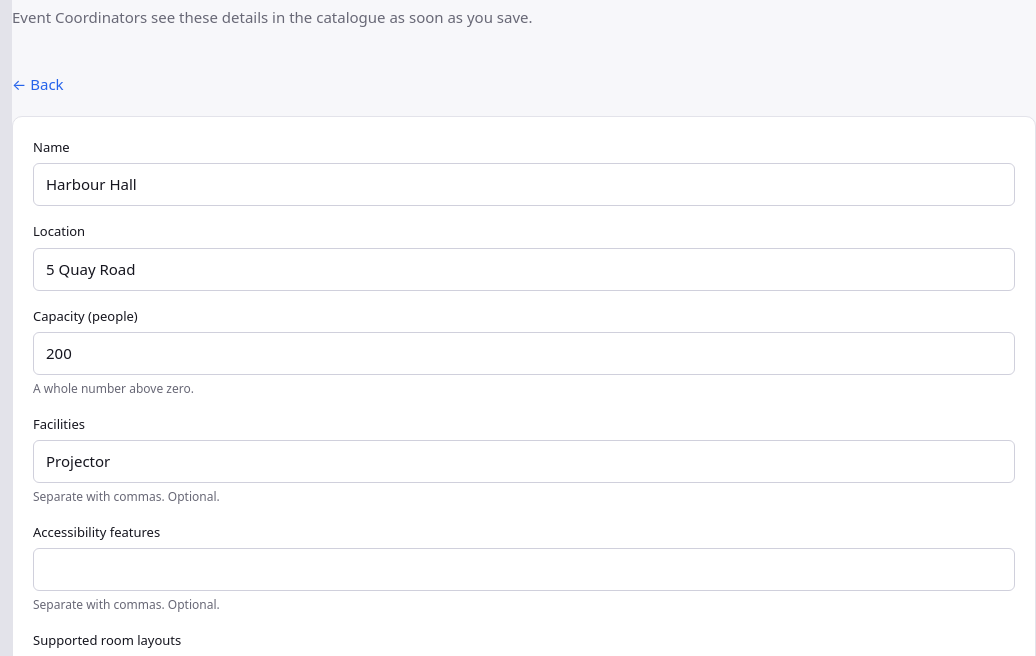
Edit a venue › ac2 loads the details and saves the change
This screenshot has width=1036, height=656.
Replace the text in the field labelled "Capacity (people)" with "300" at [524, 354], box [33,332,1015,375]
(page scrolled)
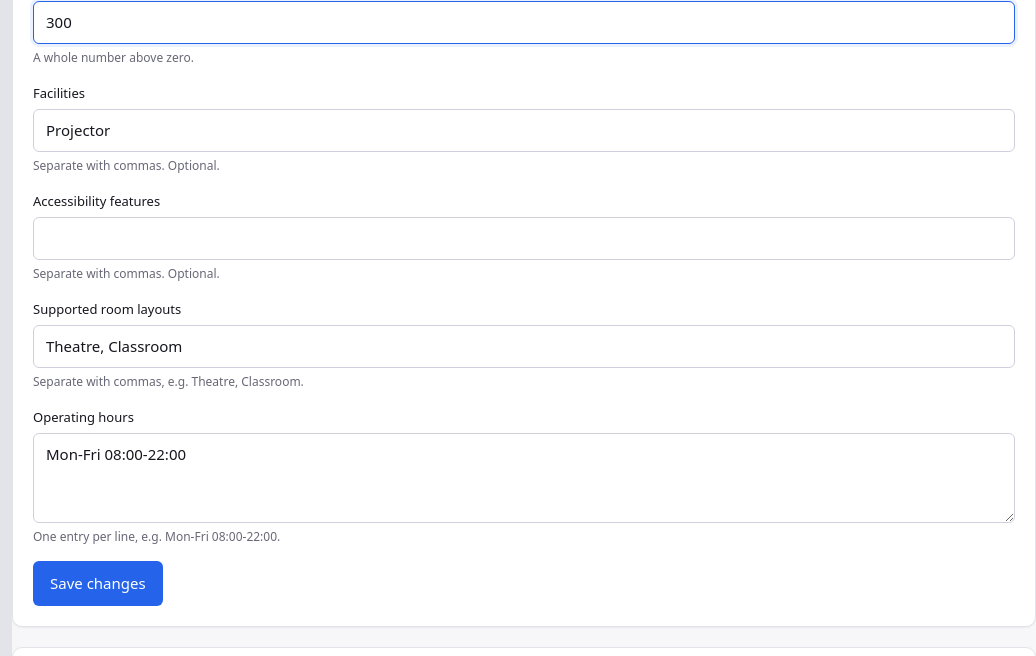
Click the button "Save changes" at [98, 584], box [33,561,163,606]
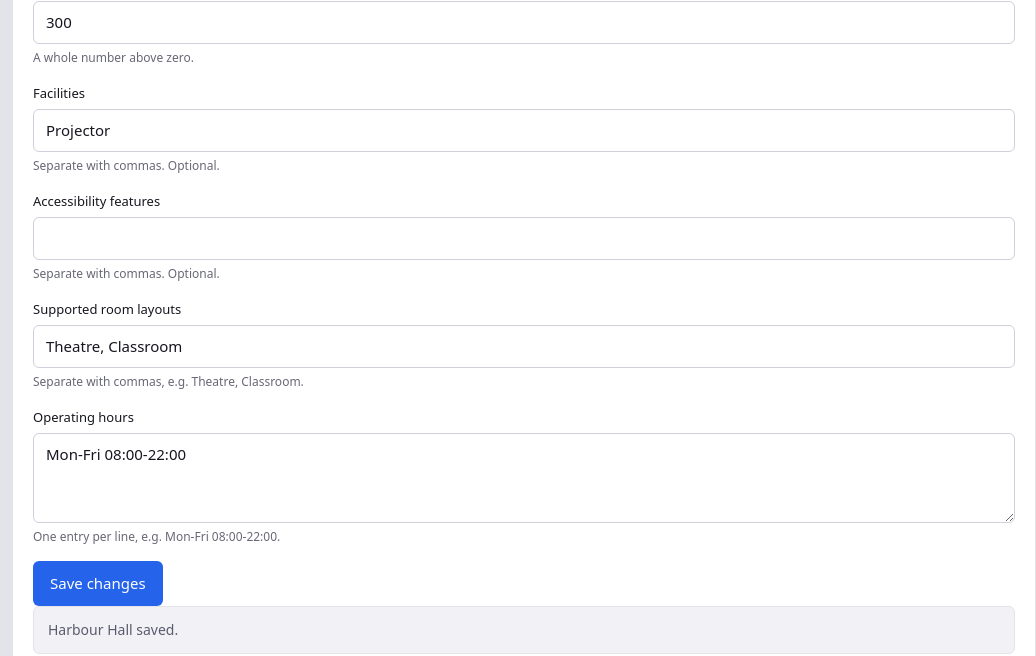
Expected: the message reads "Harbour Hall saved.", [48,620,178,640]
